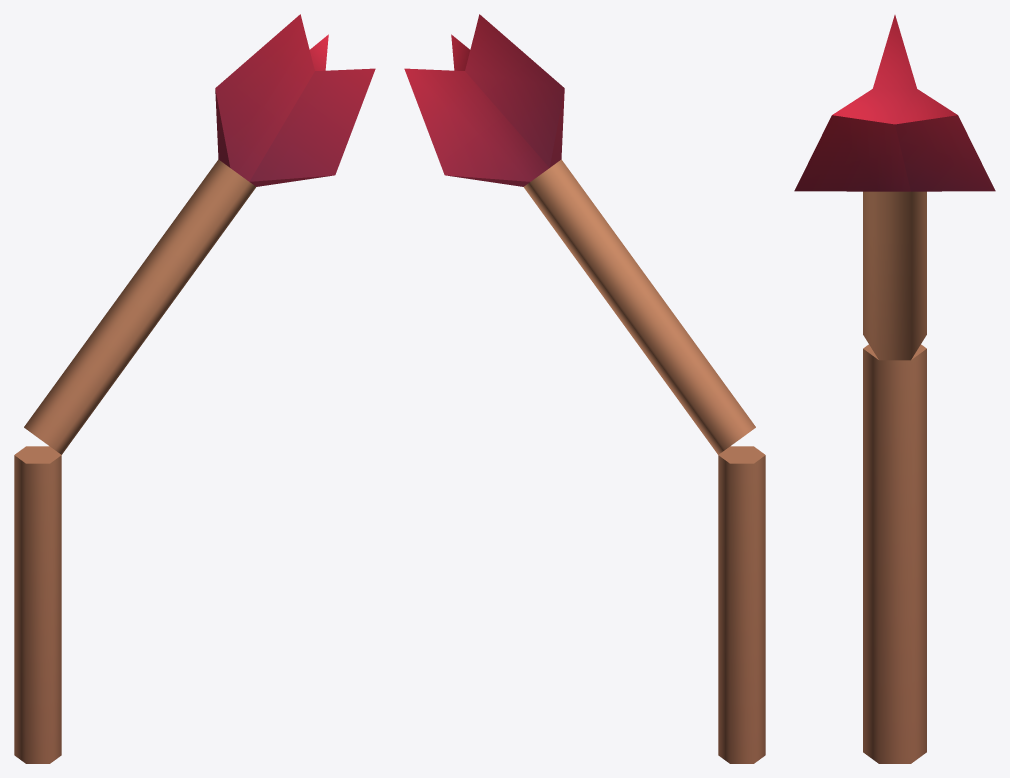
The model's file is Skeleton_Arrow_Broken_Half.glb.
3 views of the same model, side by side, from view 1: azimuth 30°, elevation 25°; view 2: azimuth 150°, elevation 25°; view 3: azimuth 270°, elevation 25° (orthographic). The views are drawn at different scales.
Parts seen in each view (by area): view 1: Skeleton_Arrow_Broken_Half; view 2: Skeleton_Arrow_Broken_Half; view 3: Skeleton_Arrow_Broken_Half.
Boxes of the visible parts, x1=… form: Skeleton_Arrow_Broken_Half: x1=14, y1=14, x2=375, y2=763; Skeleton_Arrow_Broken_Half: x1=404, y1=14, x2=765, y2=763; Skeleton_Arrow_Broken_Half: x1=794, y1=15, x2=995, y2=763.
Size of the model in its own units: 0.3001 by 0.5849 by 0.1173.
Materials: 1 (1 with a texture image).
